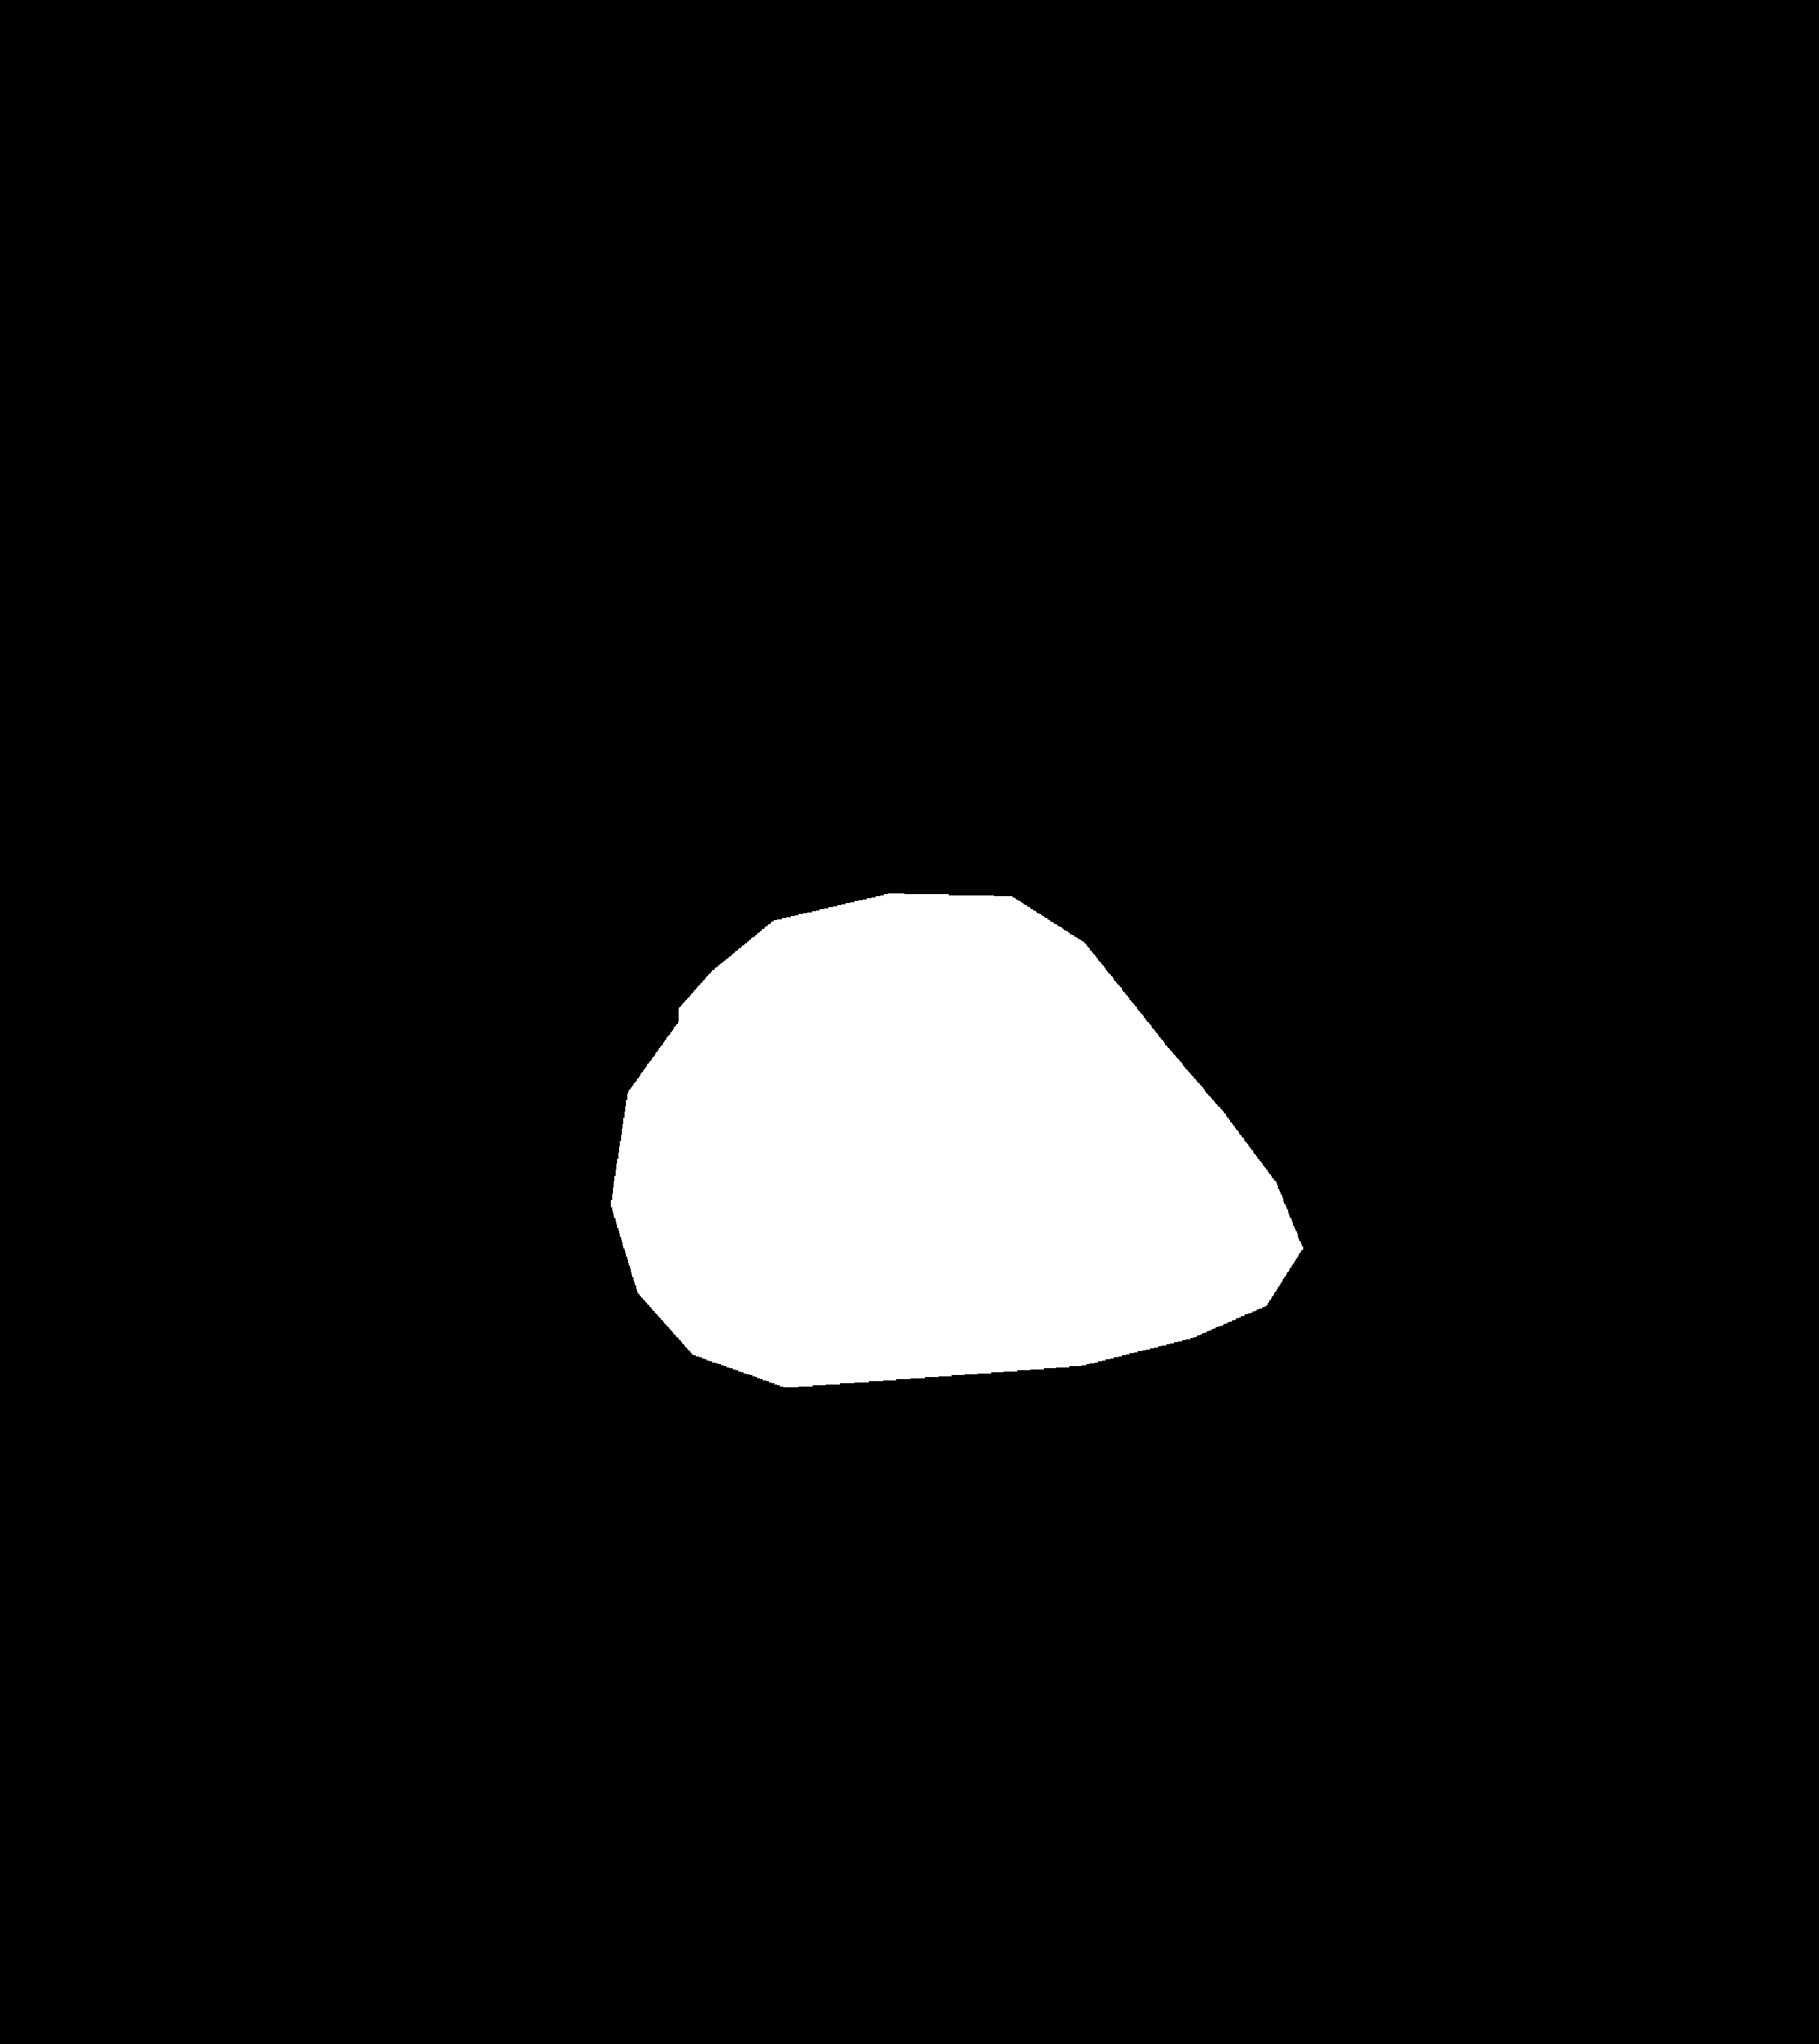heart: (623, 985, 1306, 1396)
left_lung: (116, 267, 718, 1287)
right_lung: (934, 230, 1736, 1431)
